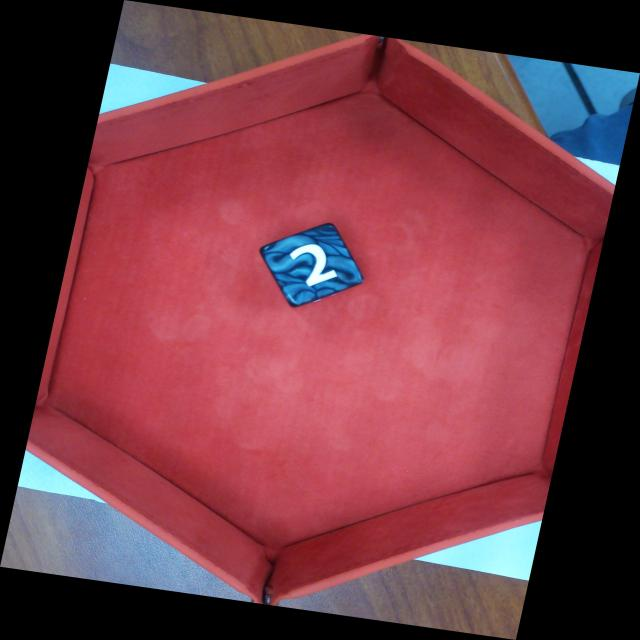dice: (256, 220, 368, 311)
